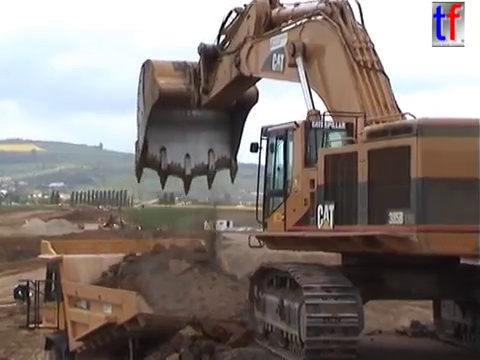excavator: (131, 1, 480, 360), (97, 211, 134, 233)
truck: (11, 234, 289, 360)
